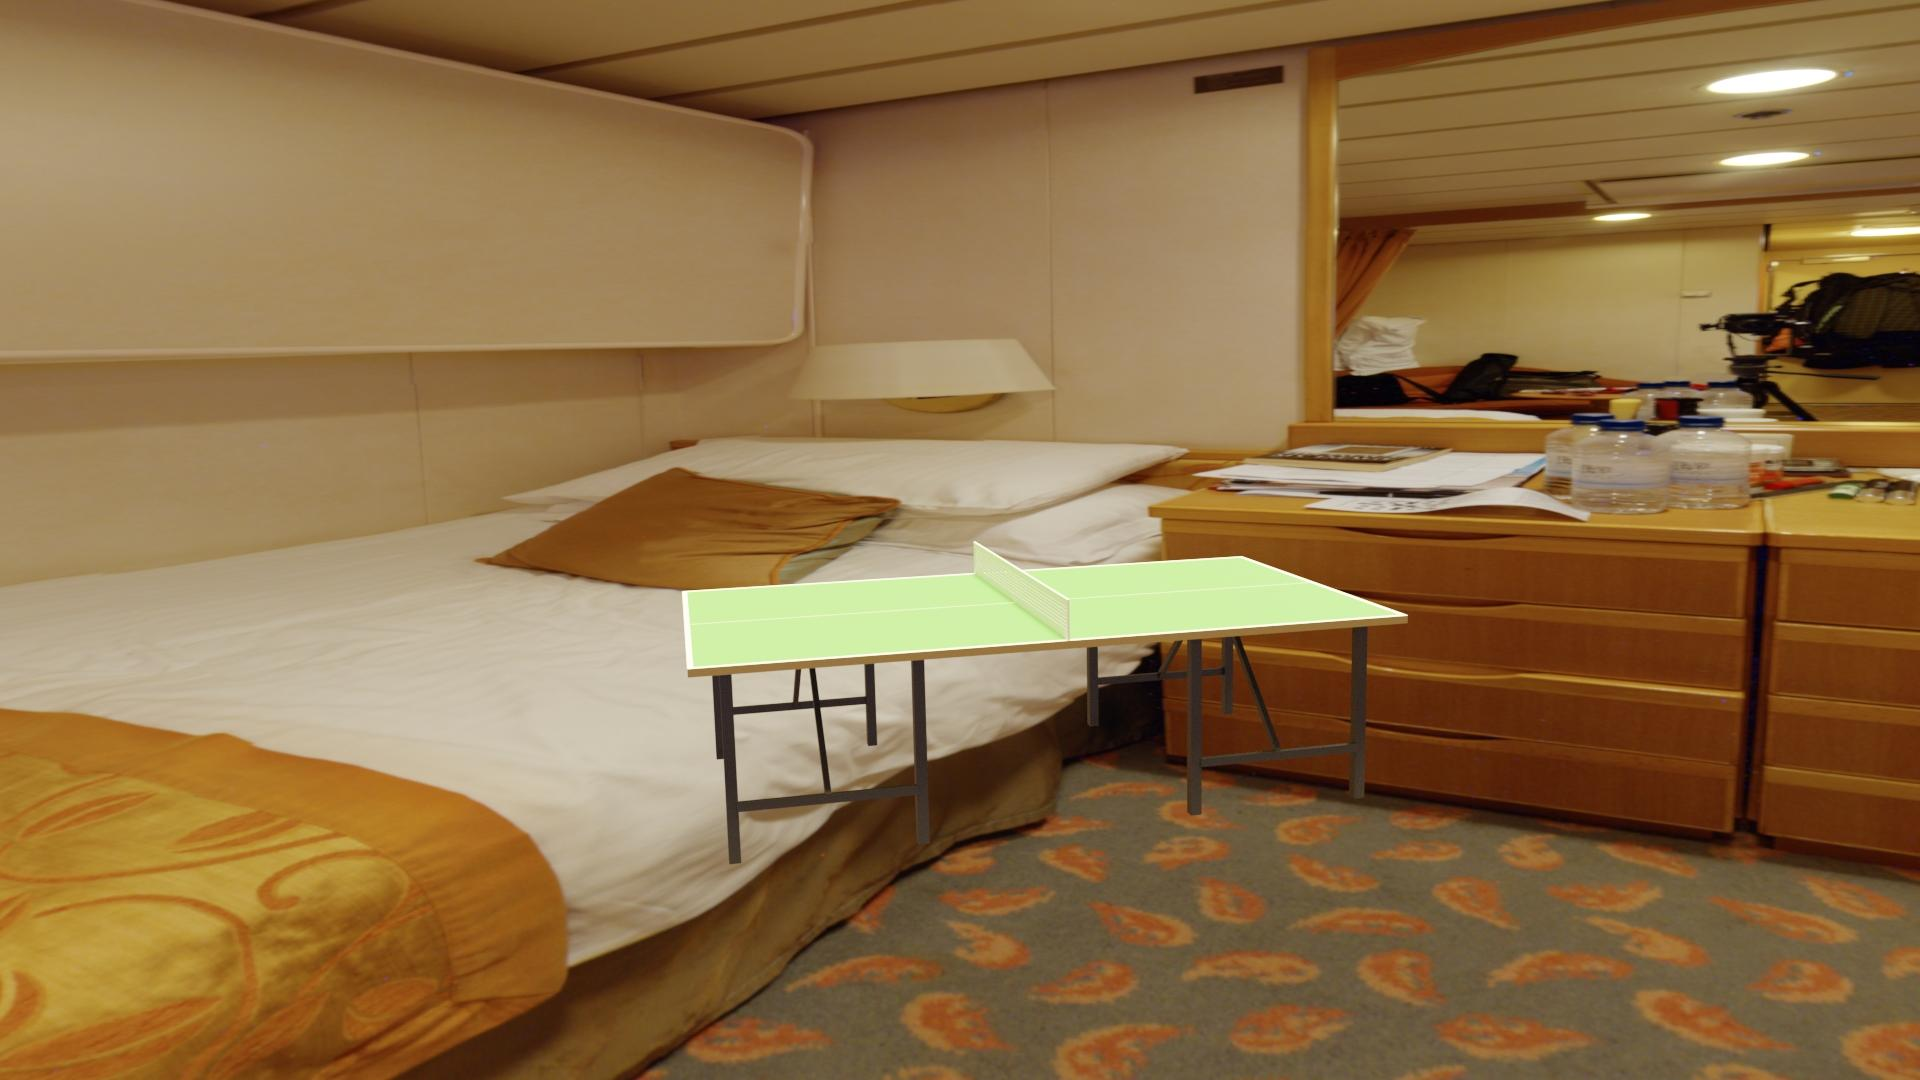table: (687, 558, 1400, 667)
